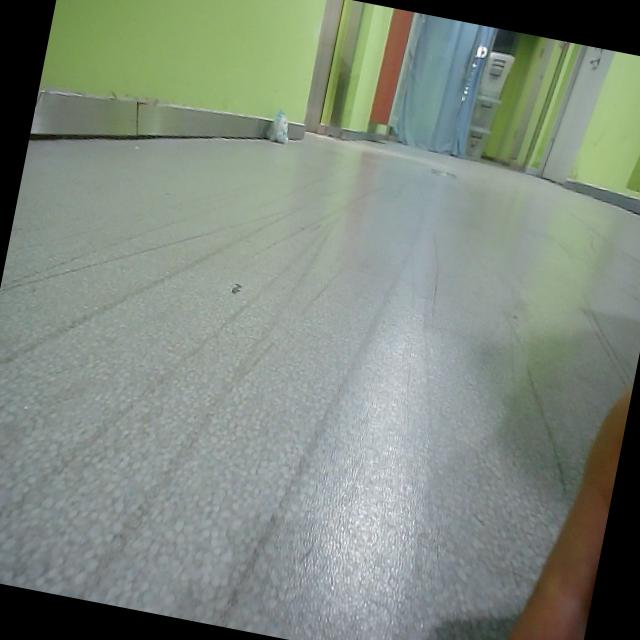xiaoba: (264, 100, 297, 147)
